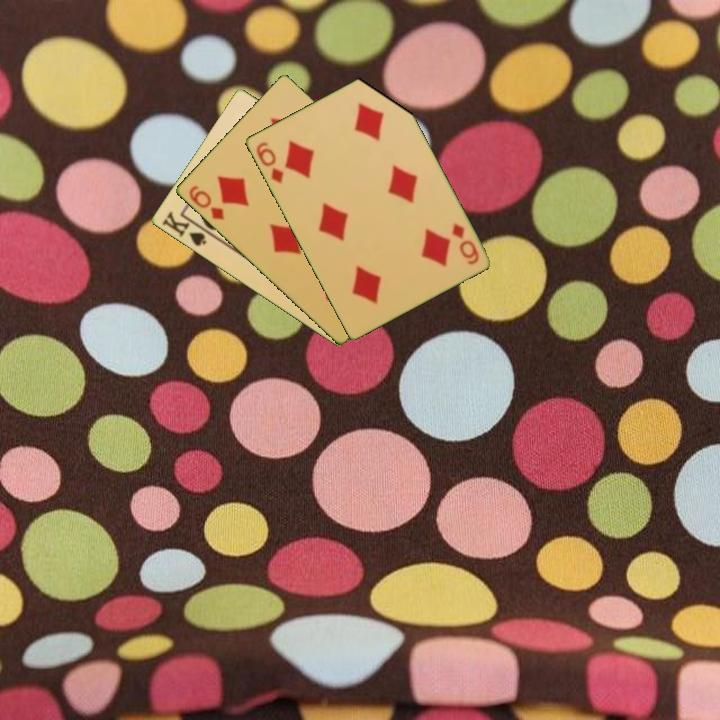6d: (185, 182, 227, 223), (448, 219, 482, 268), (252, 138, 286, 186)
Ks: (158, 208, 209, 249)
